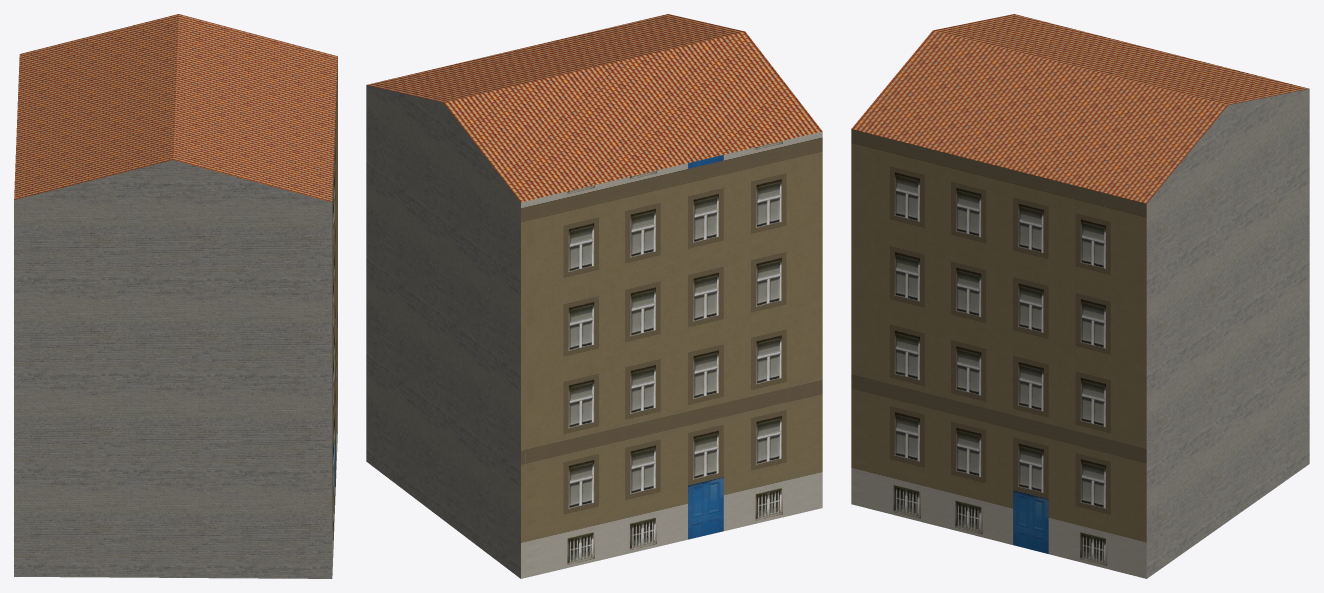
File: Building005.dae
3 renders of one model, left to right at view 1: azimuth 30°, elevation 25°; view 2: azimuth 150°, elevation 25°; view 3: azimuth 270°, elevation 25°, orthographic.
Parts seen in each view (by area): view 1: SketchUp (×3); view 2: SketchUp (×3); view 3: SketchUp (×3).
Boxes of the visible parts, x1,y1,x2,y2 form: SketchUp (×3): [14, 14, 337, 578]; SketchUp (×3): [366, 14, 822, 578]; SketchUp (×3): [851, 14, 1309, 578].
Bounding box in the file's own units: 780 × 797 × 798.
3 materials, 3 textured.
